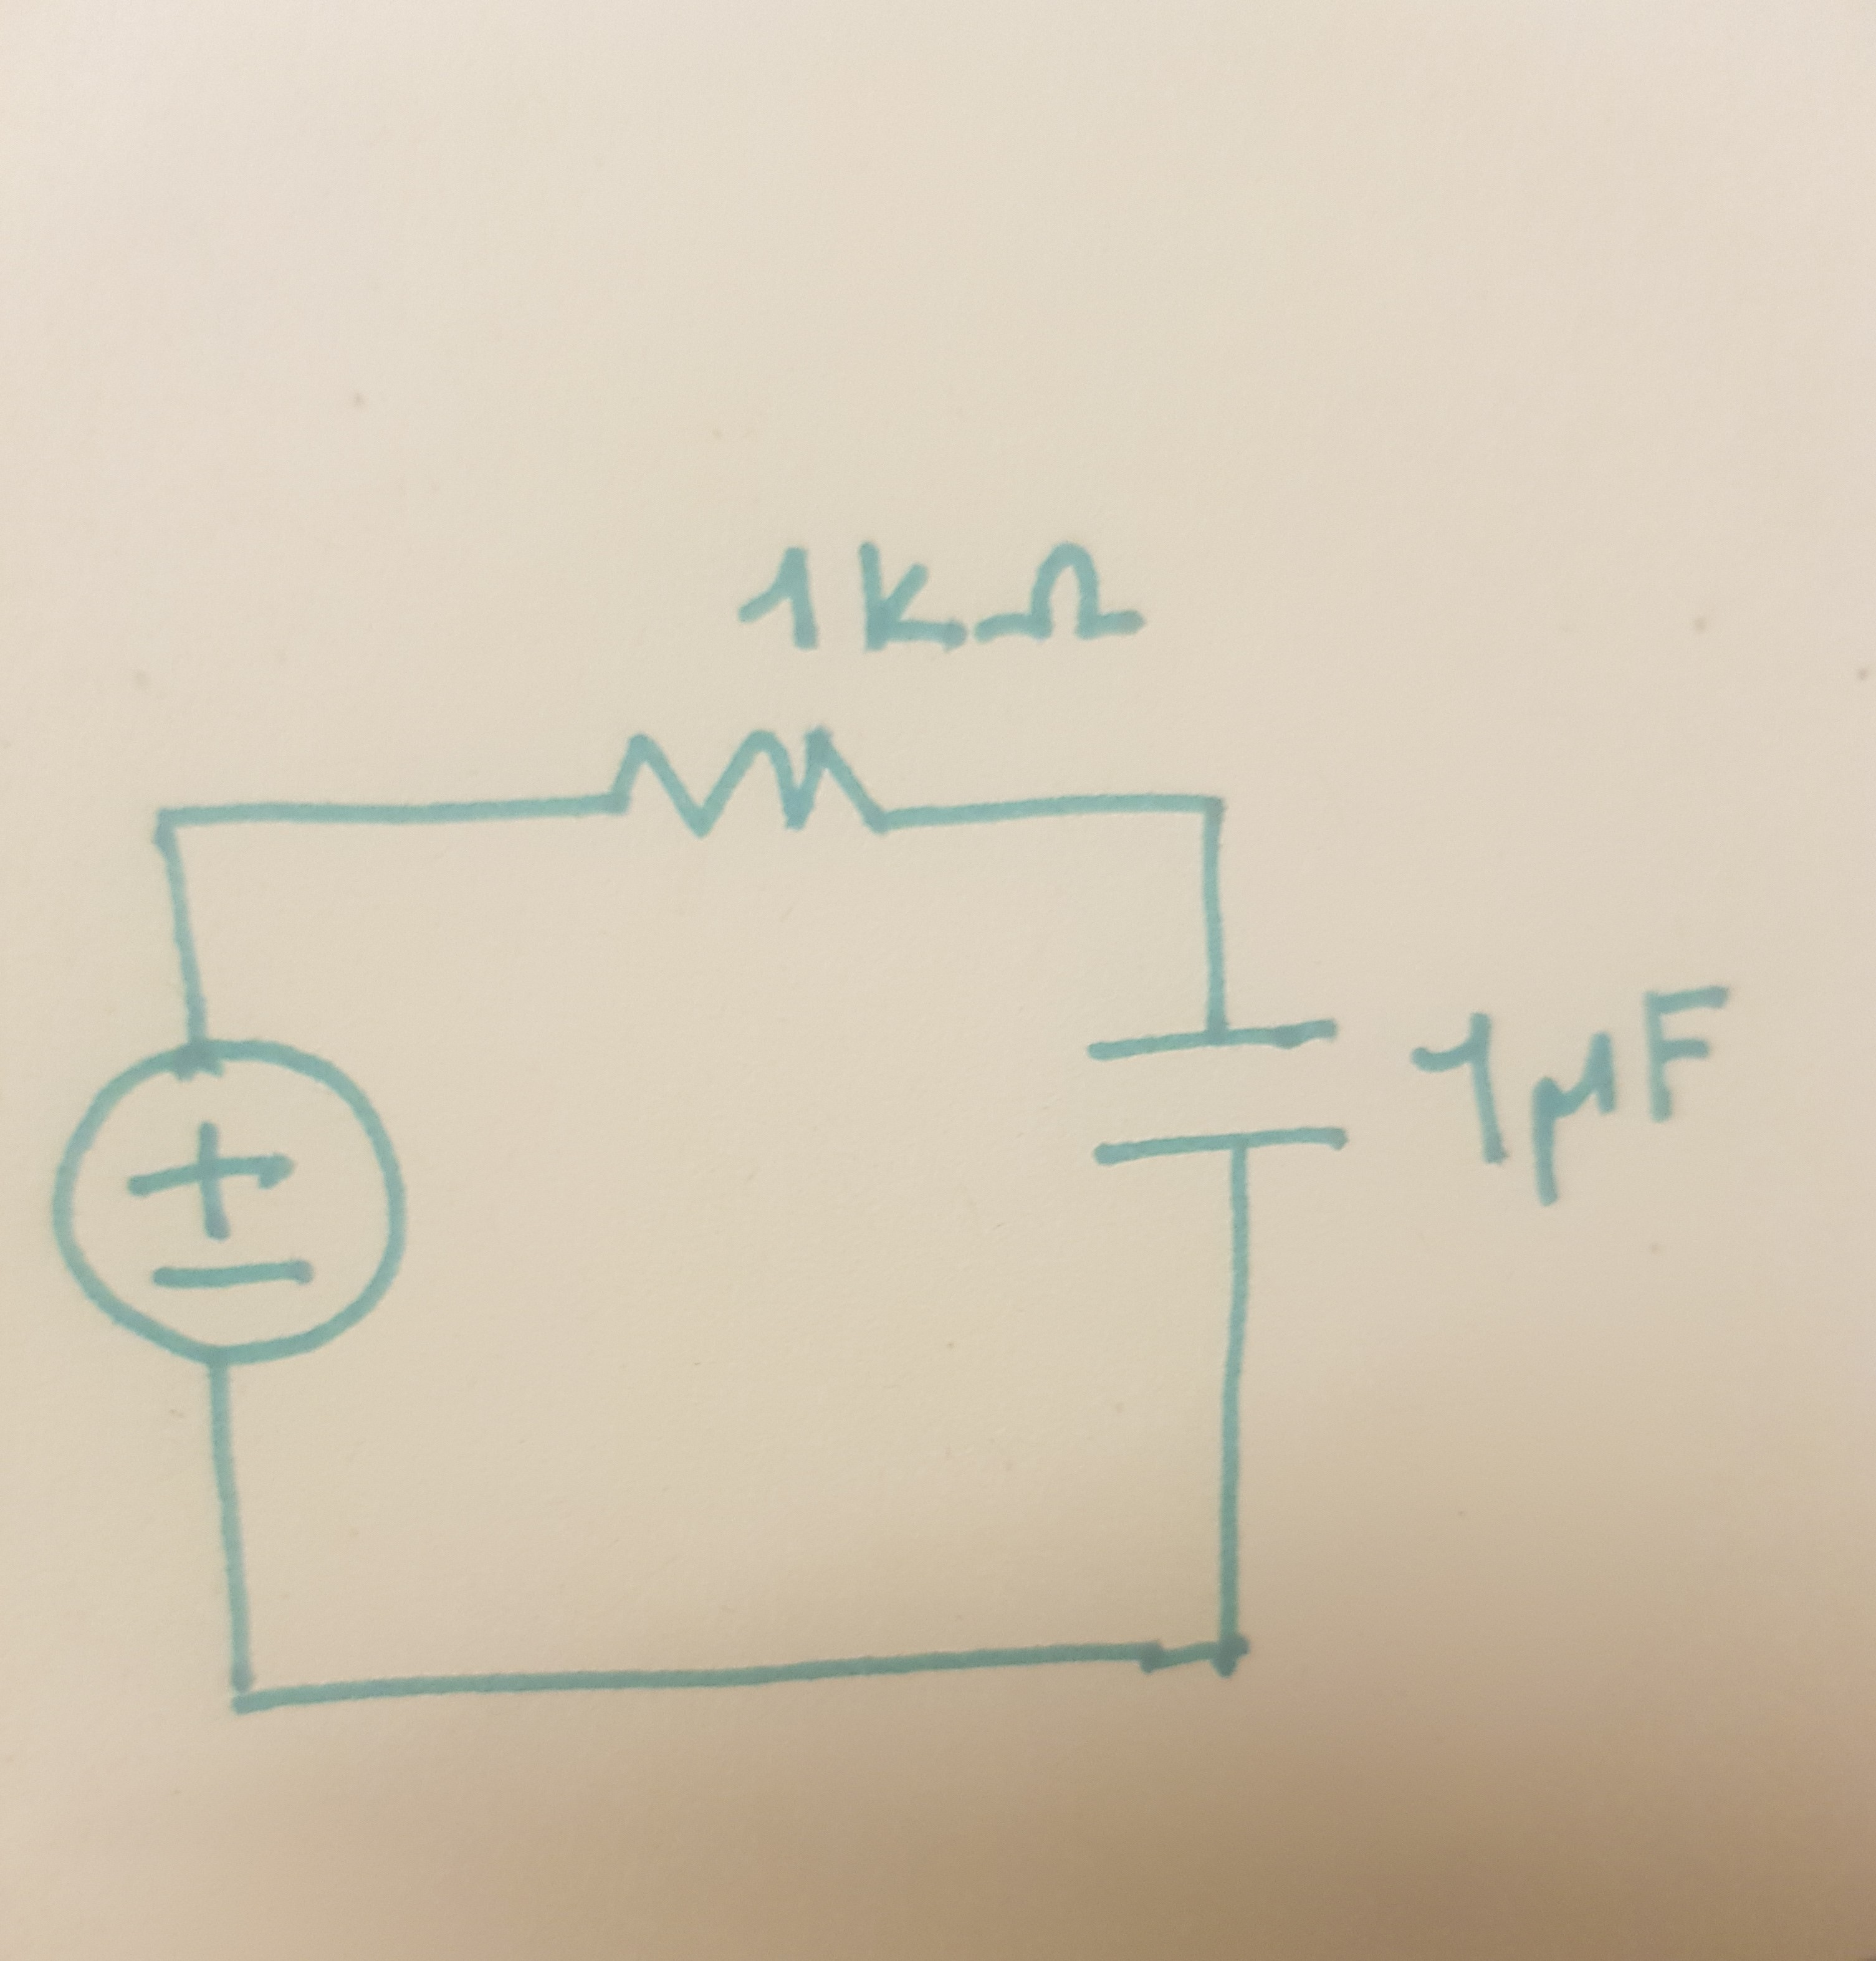capacitor.unpolarized: (1068, 993, 1372, 1196)
junction: (203, 1655, 305, 1751), (1181, 1599, 1265, 1693), (1181, 762, 1249, 858), (121, 783, 203, 858)
resistor: (571, 706, 930, 863)
text: (1400, 966, 1732, 1203), (716, 515, 1168, 674)
voltage.dc: (25, 1031, 443, 1371)
